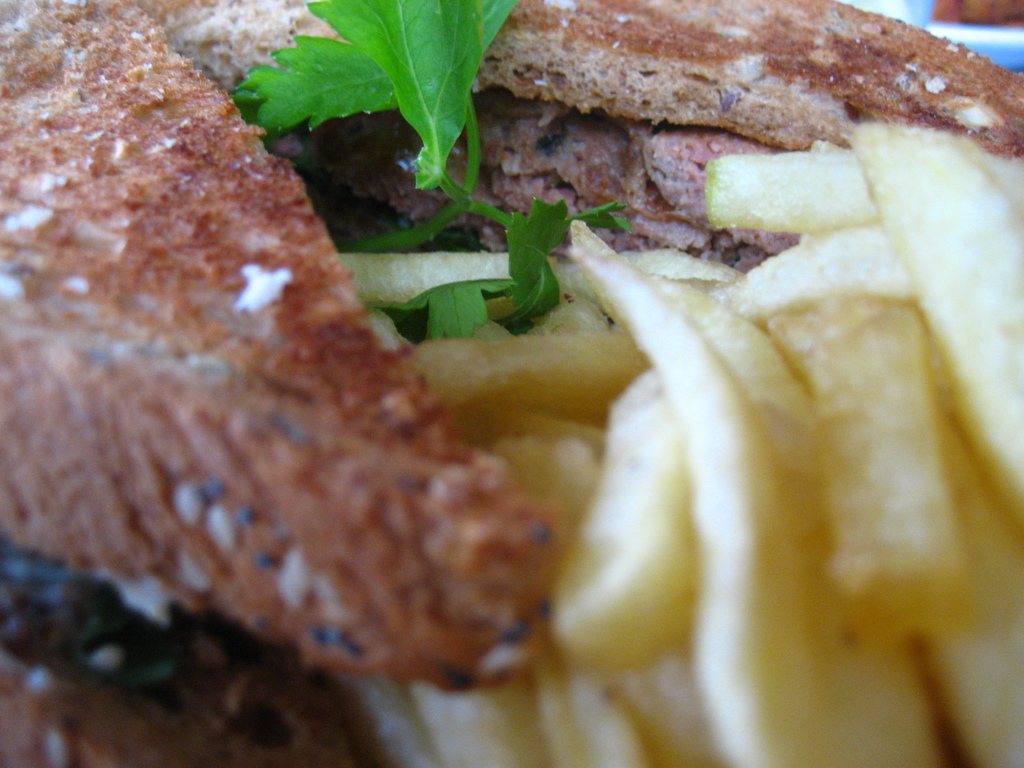French fries: (396, 107, 1018, 765)
